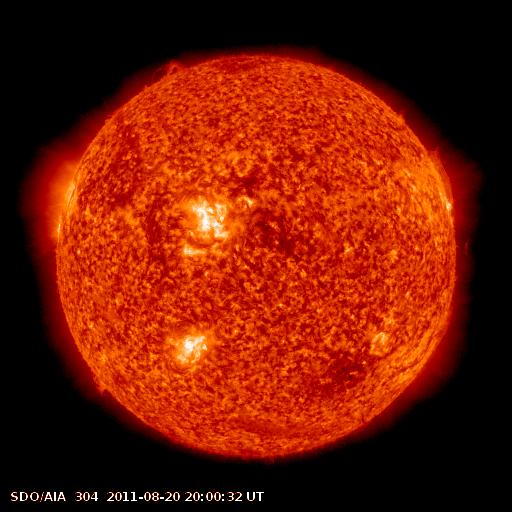prominence: (426, 141, 460, 212), (158, 49, 193, 85)
